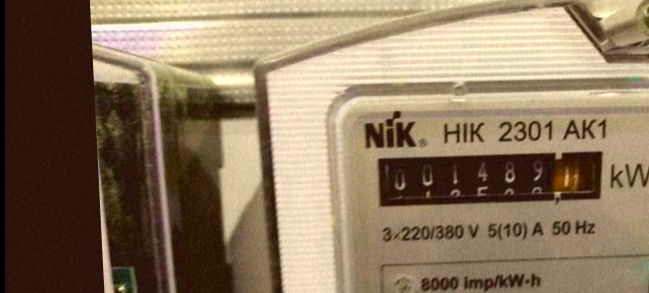0: (418, 160, 435, 186), (391, 165, 407, 191)
1: (447, 158, 462, 187), (559, 158, 573, 189)
4: (474, 157, 491, 184)
8: (500, 156, 518, 184)
9: (529, 156, 545, 182)
screen: (361, 135, 621, 223)
